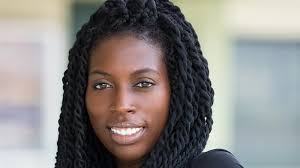person: (57, 1, 214, 162)
